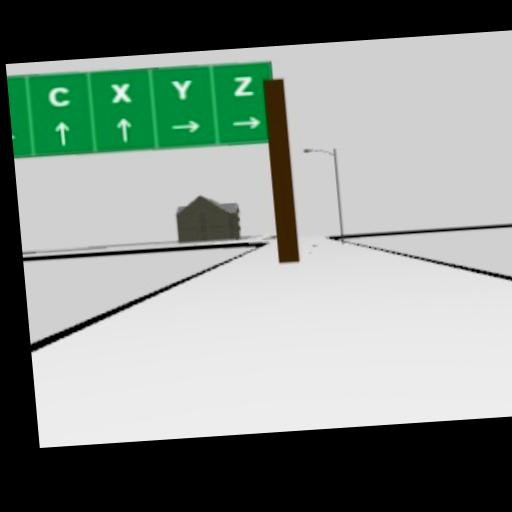C: (47, 85, 71, 106)
Left: (12, 133, 16, 138)
Right: (231, 115, 262, 130), (170, 119, 201, 134)
Straight: (54, 120, 71, 145), (116, 116, 133, 141)
X: (109, 81, 133, 102)
Y: (170, 79, 194, 100)
Z: (232, 75, 254, 96)
